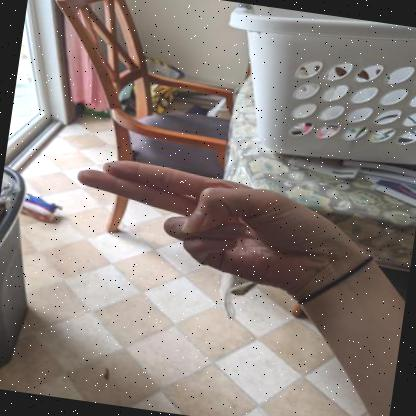H: (76, 160, 360, 303)
